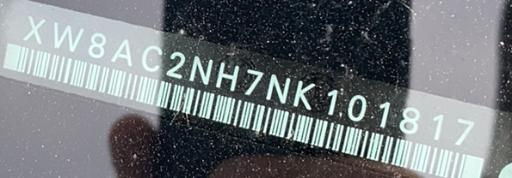letter: (52, 21, 86, 52), (214, 59, 242, 93), (21, 12, 47, 47), (265, 72, 291, 104), (291, 78, 317, 110), (188, 55, 214, 85), (109, 38, 133, 69), (453, 114, 475, 147), (140, 44, 164, 73), (165, 49, 187, 79), (346, 93, 368, 122), (398, 106, 420, 135), (243, 68, 265, 96), (88, 32, 106, 59), (324, 87, 338, 117), (431, 112, 445, 141), (378, 100, 390, 130)
